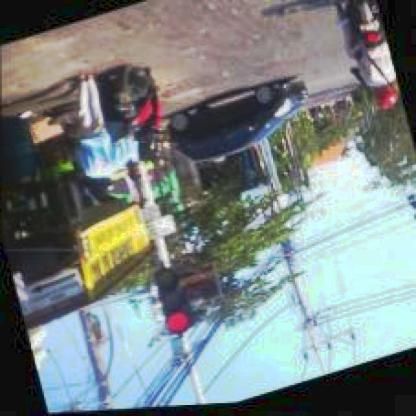Traffic Light -Red-: (152, 265, 192, 339)
